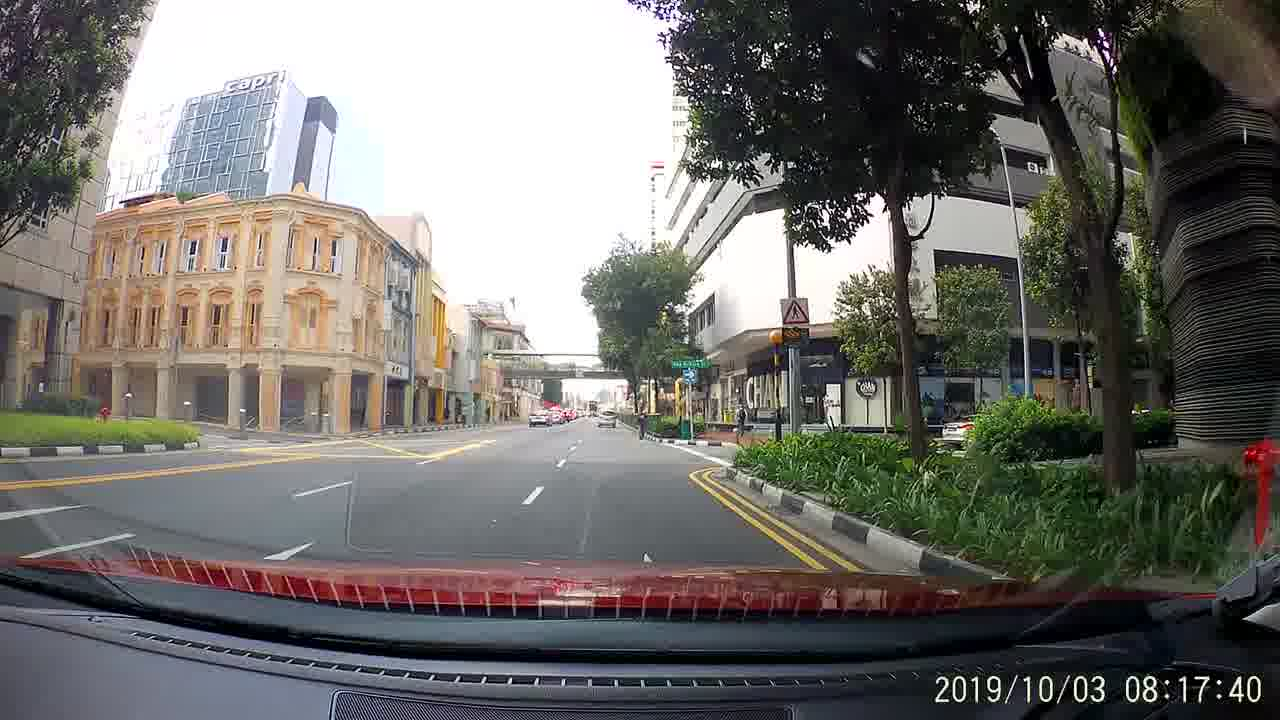car: (938, 411, 996, 450), (595, 407, 623, 433), (529, 406, 555, 429)
